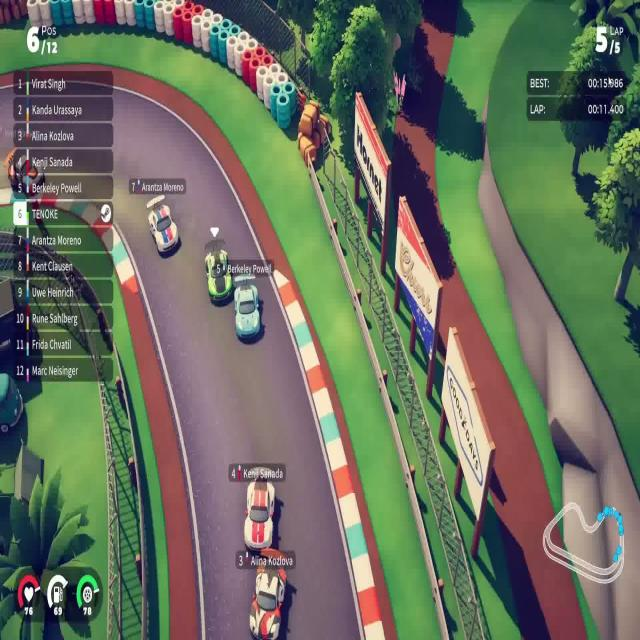car: (248, 563, 287, 638), (243, 478, 275, 553), (146, 193, 179, 255), (204, 243, 232, 304), (233, 280, 261, 340)
